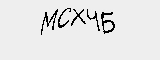Б: (96, 10, 122, 34)
М: (40, 7, 58, 34)
С: (56, 5, 71, 32)
Х: (69, 6, 86, 29)
Ч: (83, 7, 100, 30)
